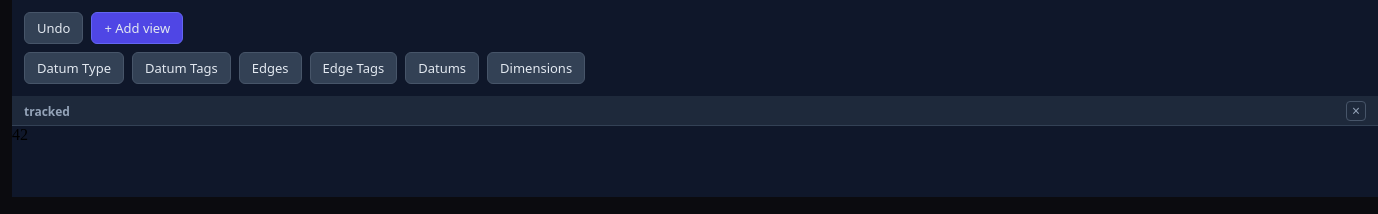
Test case: GraphSect action pipeline › VIEW_ACTION: a tracked-state set is recorded and undo routes to the view's setter
This screenshot has width=1378, height=214.
// Click Undo — value should rewind to 0, log empty.
Click the button with test id "undo-button" at (54, 28), box [24, 12, 83, 44]
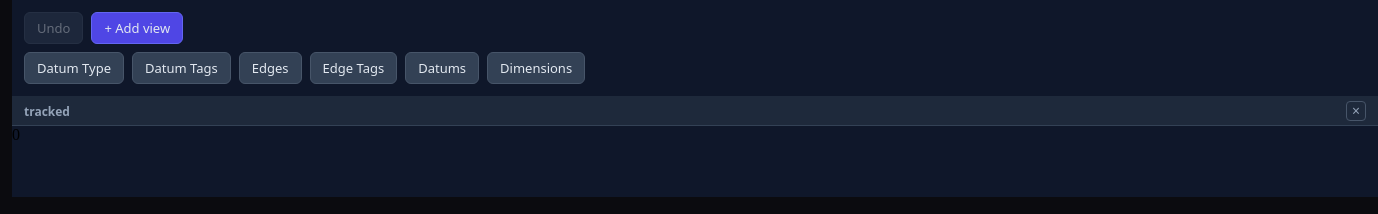
expect the button with test id "undo-button" is disabled: met, box [24, 12, 83, 44]
